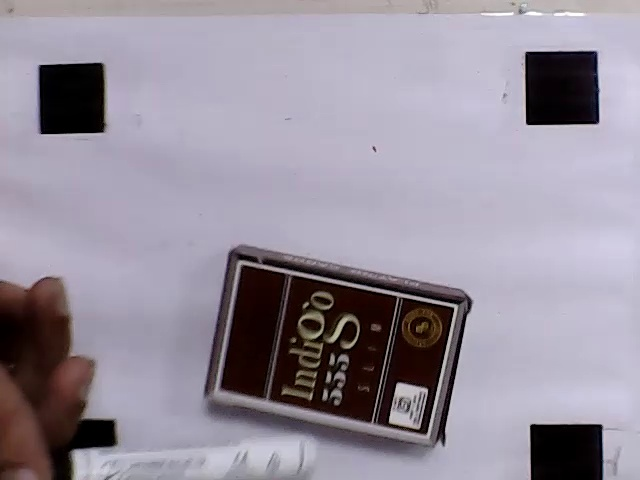BEX: (215, 264, 457, 439)
